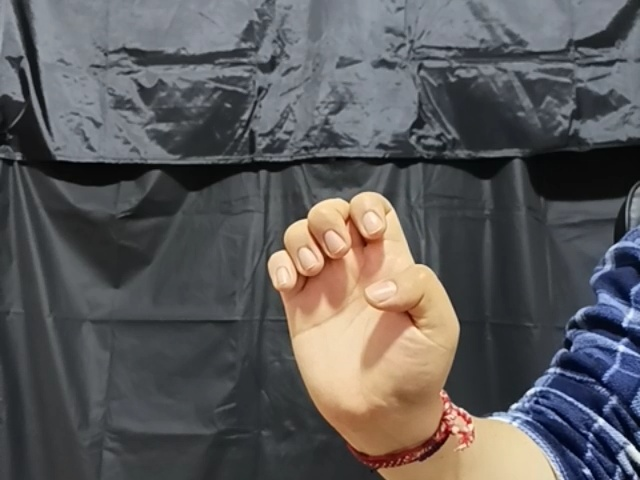E: (260, 189, 463, 437)
